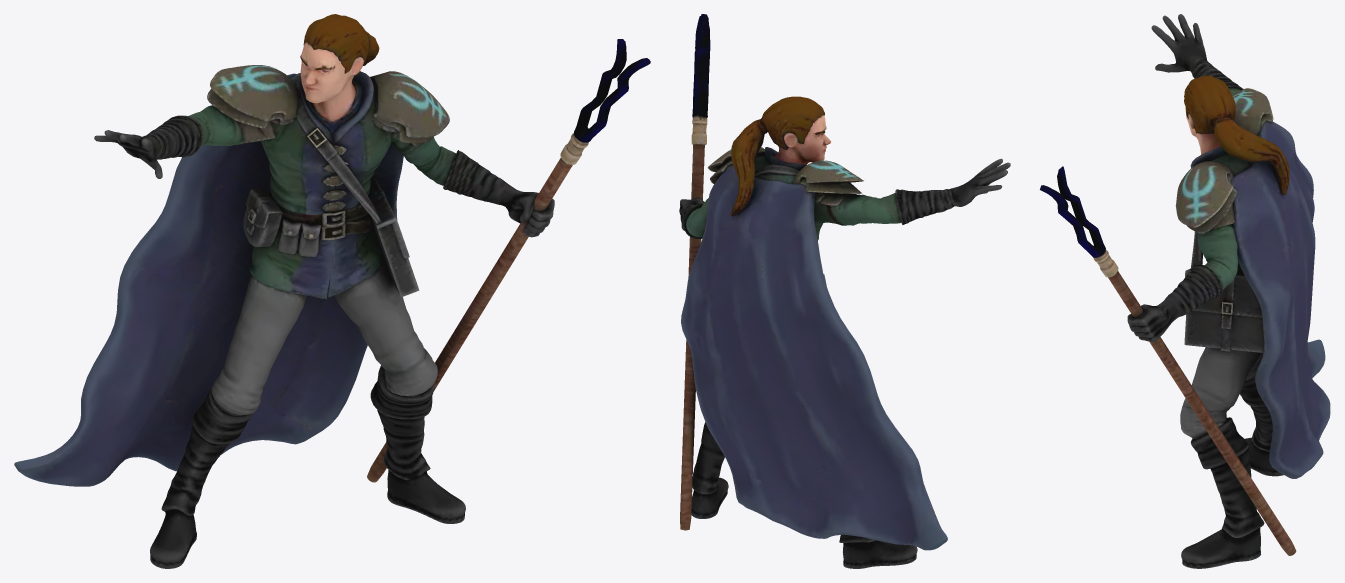
File: MZ4250 - Human Male Abjuration Wizard_1.glb
The picture shows the model from 3 angles, left to right: view 1: azimuth 30°, elevation 25°; view 2: azimuth 150°, elevation 25°; view 3: azimuth 270°, elevation 25°; orthographic projection. The views are drawn at different scales.
Visible parts, largest first — view 1: Buckle 2.001; view 2: Buckle 2.001; view 3: Buckle 2.001.
Part boxes in pixels (x1,y1,x2,y2): Buckle 2.001: (14,14,650,568); Buckle 2.001: (679,14,1010,568); Buckle 2.001: (1040,14,1330,568).
Bounding box in the file's own units: 82.44 × 86.99 × 52.37.
Materials: 1 (1 with a texture image).
